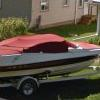Boat: (2, 28, 95, 90)
